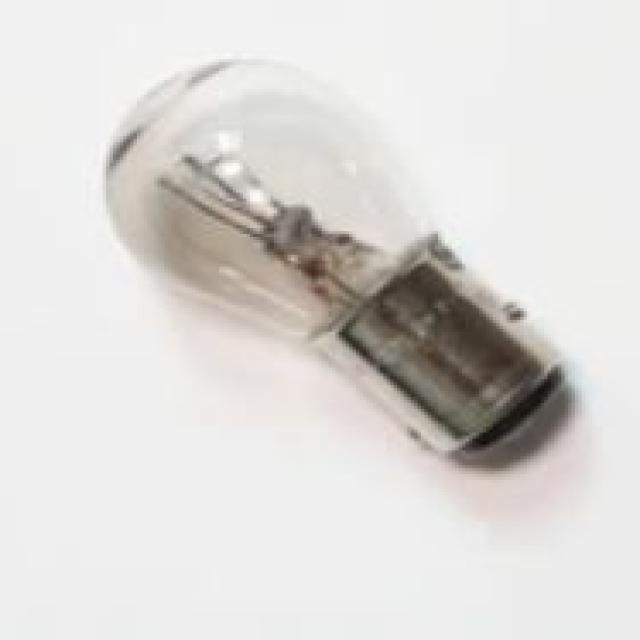electronic: (99, 54, 568, 462)
